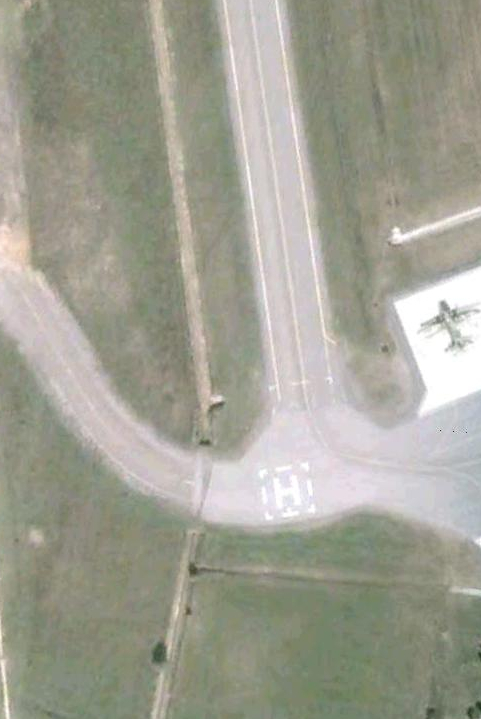heliport: (270, 474, 305, 509)
